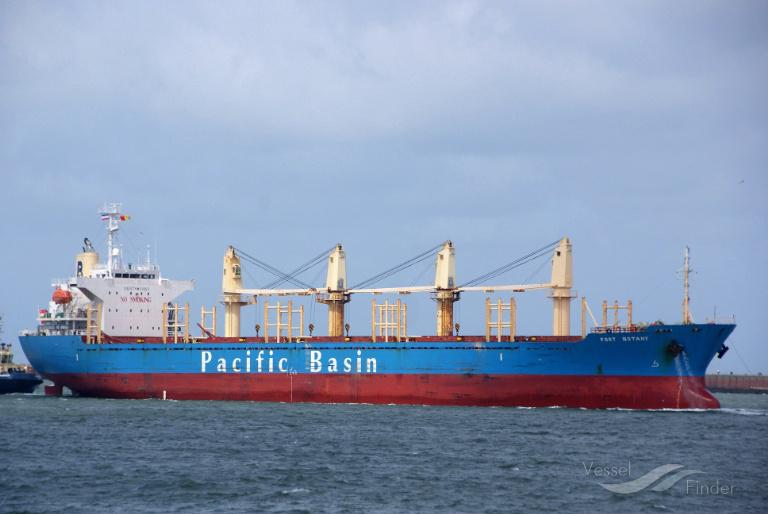OCR: (194, 349, 384, 379)
